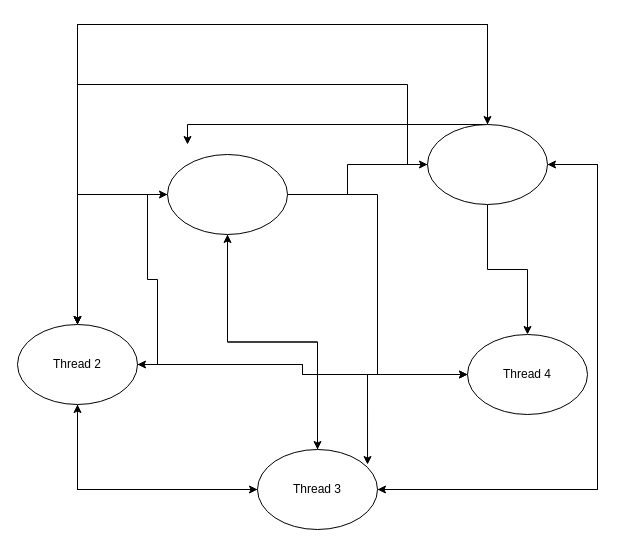
Image size: 623x547. Some labels were removed from this diagram. Each missing label, with the centre of its shape:
Thread 1: point 227,194
Thread 5: point 487,164
